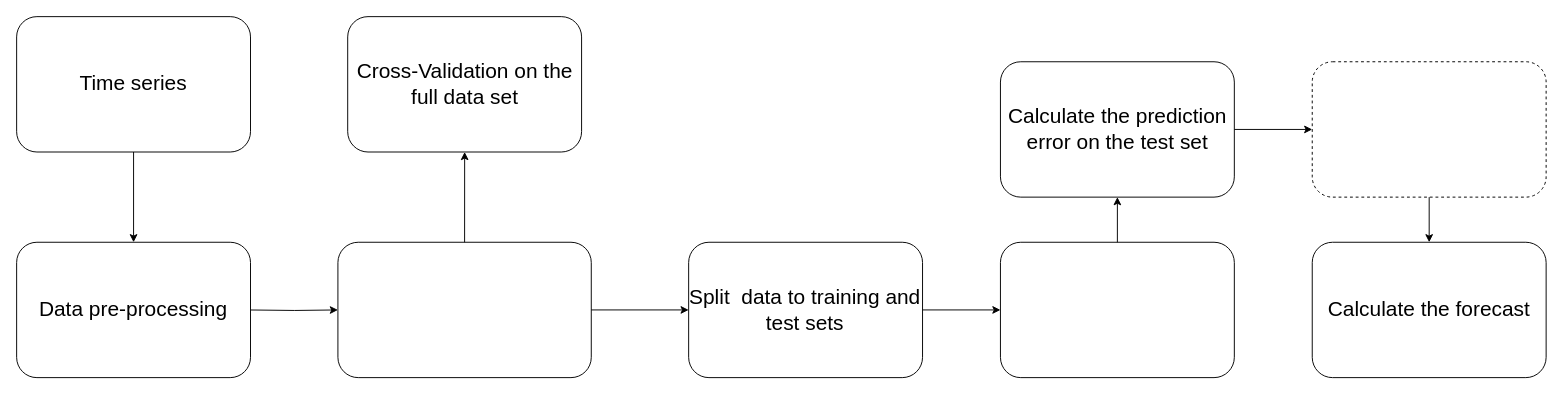
The diagram is 1563 pixels wide and 394 high, and some of its shapes have lost their labels. Here are the shapes that lost their labels. From the top down, the centre of each, then its label:
(1428,129): Optional: Apply the model on the full data set
(464,309): Select hyperparameters (CV/Information criterion/error minimization)
(1116,309): Fit the model on the training set
